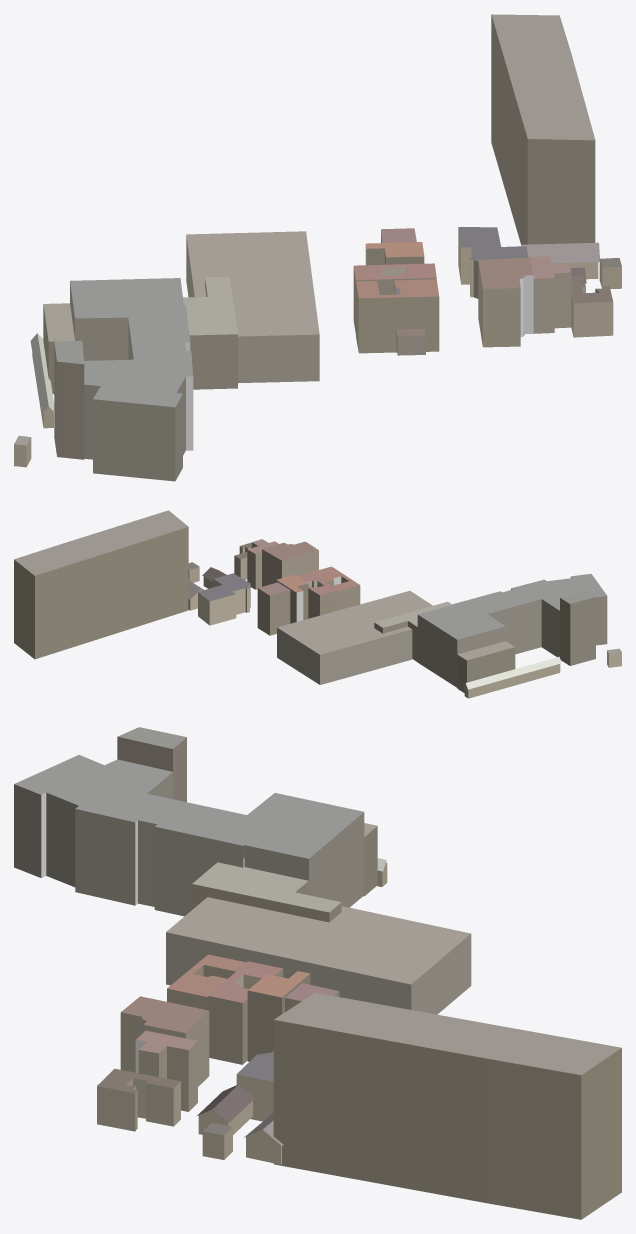
The picture shows the model from 3 angles, top to bottom: view 1: azimuth 30°, elevation 25°; view 2: azimuth 150°, elevation 25°; view 3: azimuth 270°, elevation 25°; orthographic projection. The views are drawn at different scales.
Visible parts, largest first — view 1: tuile; view 2: tuile; view 3: tuile.
Boxes of the visible parts, box(x1,y1,x2,y2) form: tuile: box(14, 14, 621, 481); tuile: box(14, 510, 621, 698); tuile: box(14, 727, 621, 1219).
Size of the model in its own units: 173 by 28.69 by 109.
